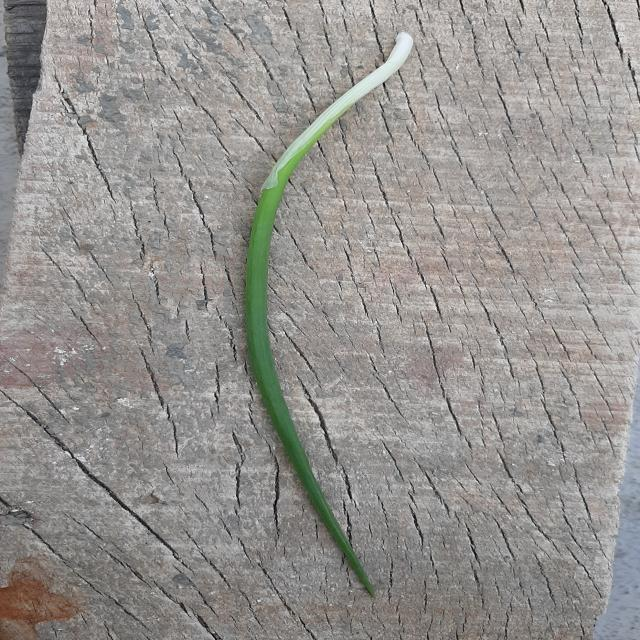onion: (244, 32, 412, 594)
